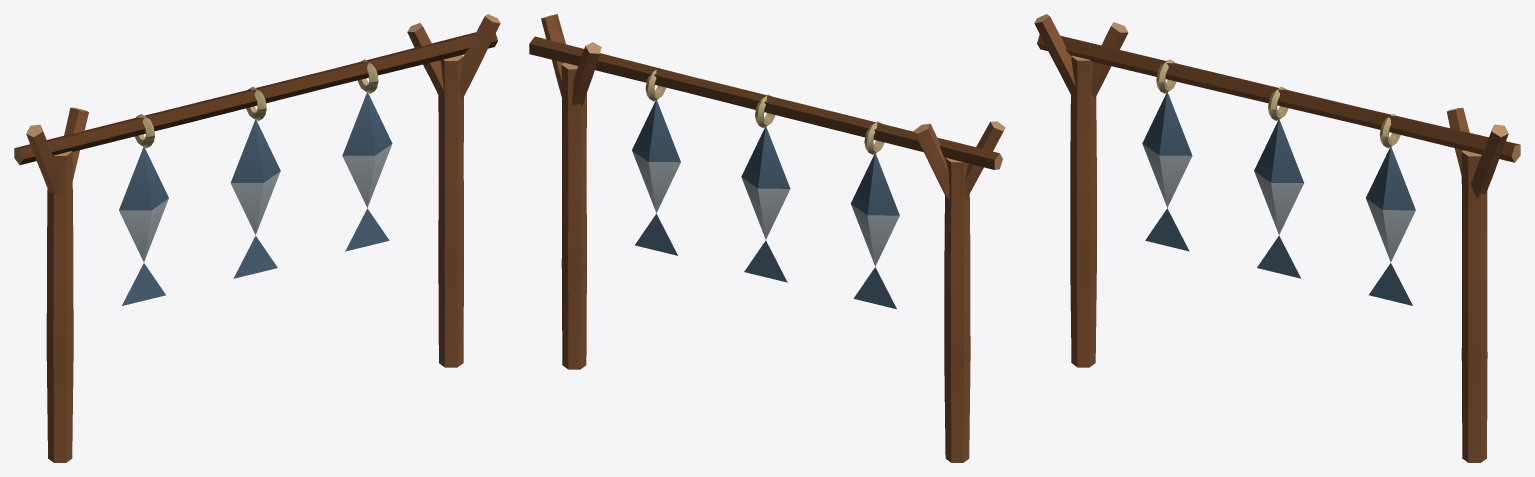
The model's file is drying_rack.glb.
The picture shows the model from 3 angles, left to right: view 1: azimuth 30°, elevation 25°; view 2: azimuth 150°, elevation 25°; view 3: azimuth 330°, elevation 25°; orthographic projection. The views are drawn at different scales.
Visible parts, largest first — view 1: drying_rack; view 2: drying_rack; view 3: drying_rack.
Boxes of the visible parts, box(x1,y1,x2,y2) form: drying_rack: box(14, 14, 500, 462); drying_rack: box(529, 14, 1005, 462); drying_rack: box(1034, 14, 1520, 462).
Bounding box in the file's own units: 1.7 × 1.18 × 0.155.
